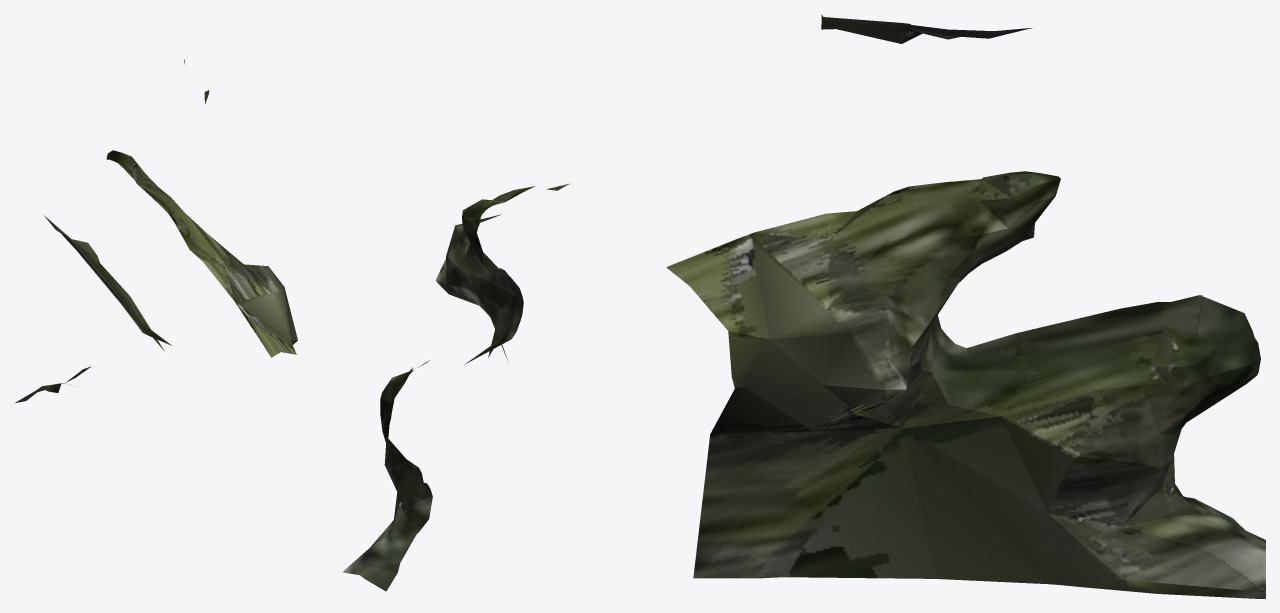
3 renders of one model, left to right at view 1: azimuth 30°, elevation 25°; view 2: azimuth 150°, elevation 25°; view 3: azimuth 270°, elevation 25°, orthographic. The views are drawn at different scales.
Bounding box in the file's own units: 0.3912 × 1.67 × 1.65.
2 materials, 2 textured.
